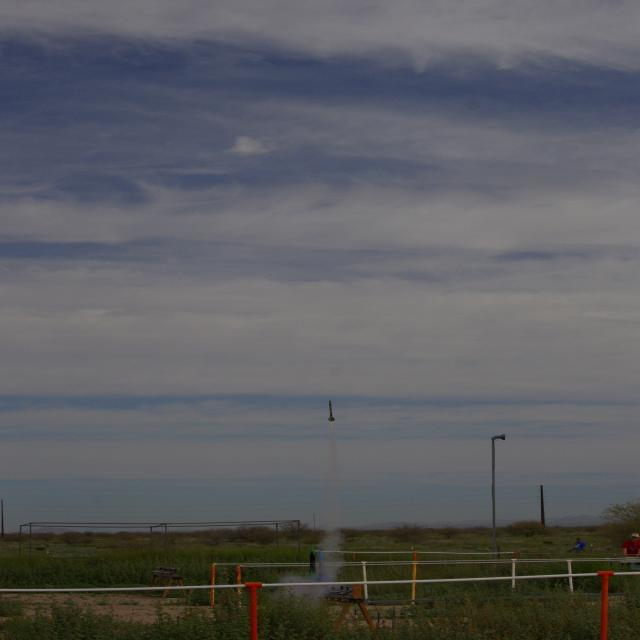Rocket: (316, 549, 333, 583), (307, 544, 320, 579), (328, 400, 335, 422)
